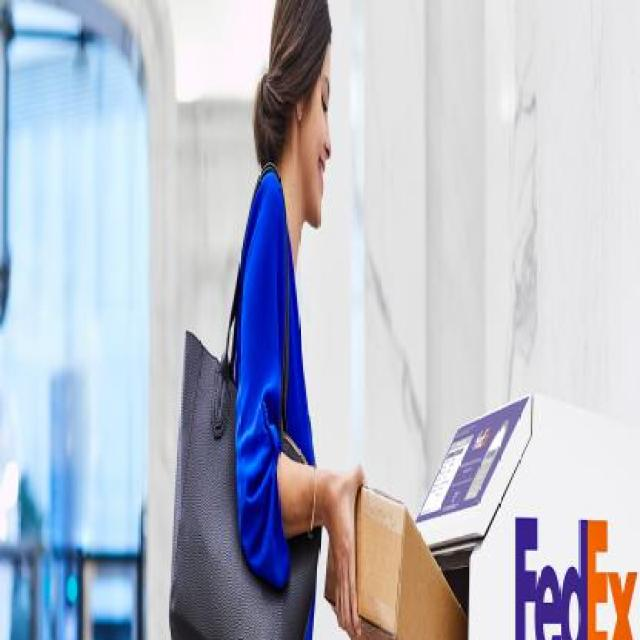box: (321, 442, 477, 640)
